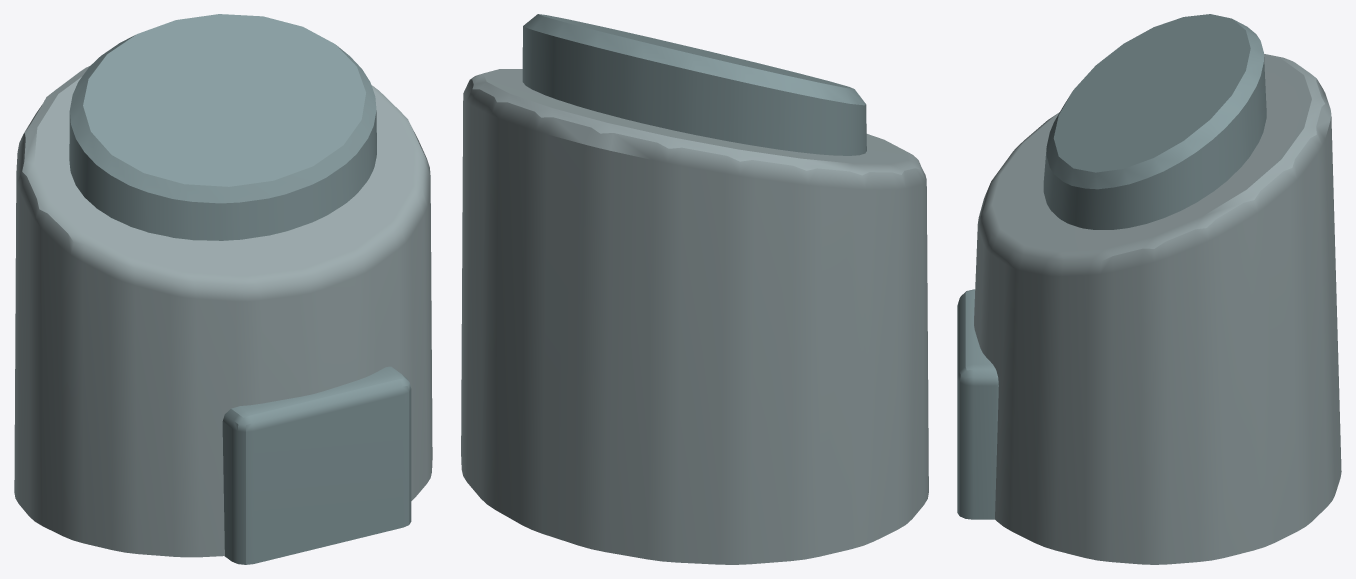
3 views of the same model, side by side, from view 1: azimuth 30°, elevation 25°; view 2: azimuth 150°, elevation 25°; view 3: azimuth 270°, elevation 25° (orthographic). The views are drawn at different scales.
Parts seen in each view (by area): view 1: pCube144; view 2: pCube144; view 3: pCube144.
Boxes of the visible parts, x1,y1,x2,y2 form: pCube144: (14,14,432,564); pCube144: (461,14,928,564); pCube144: (957,14,1341,564).
Bounding box in the file's own units: 88.5 × 94.35 × 77.4.
